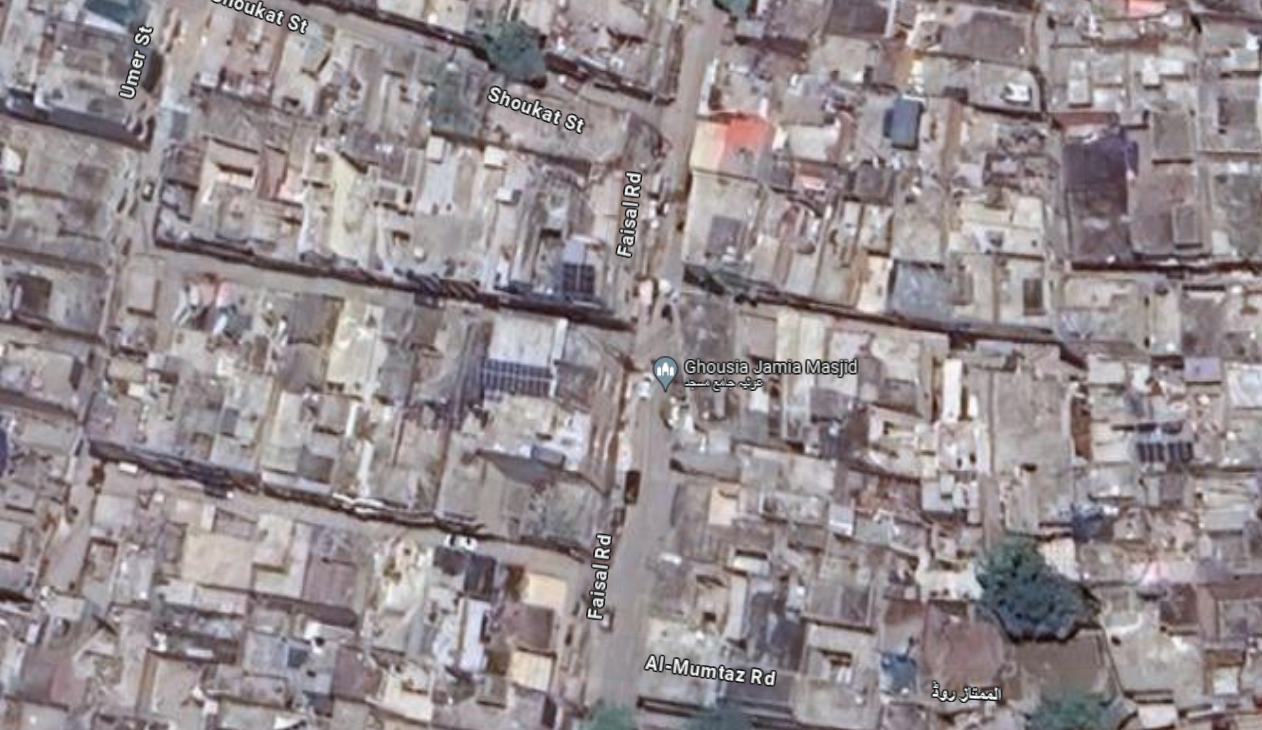solar-panel: (480, 363, 557, 395), (1135, 443, 1198, 465), (565, 264, 596, 297)
